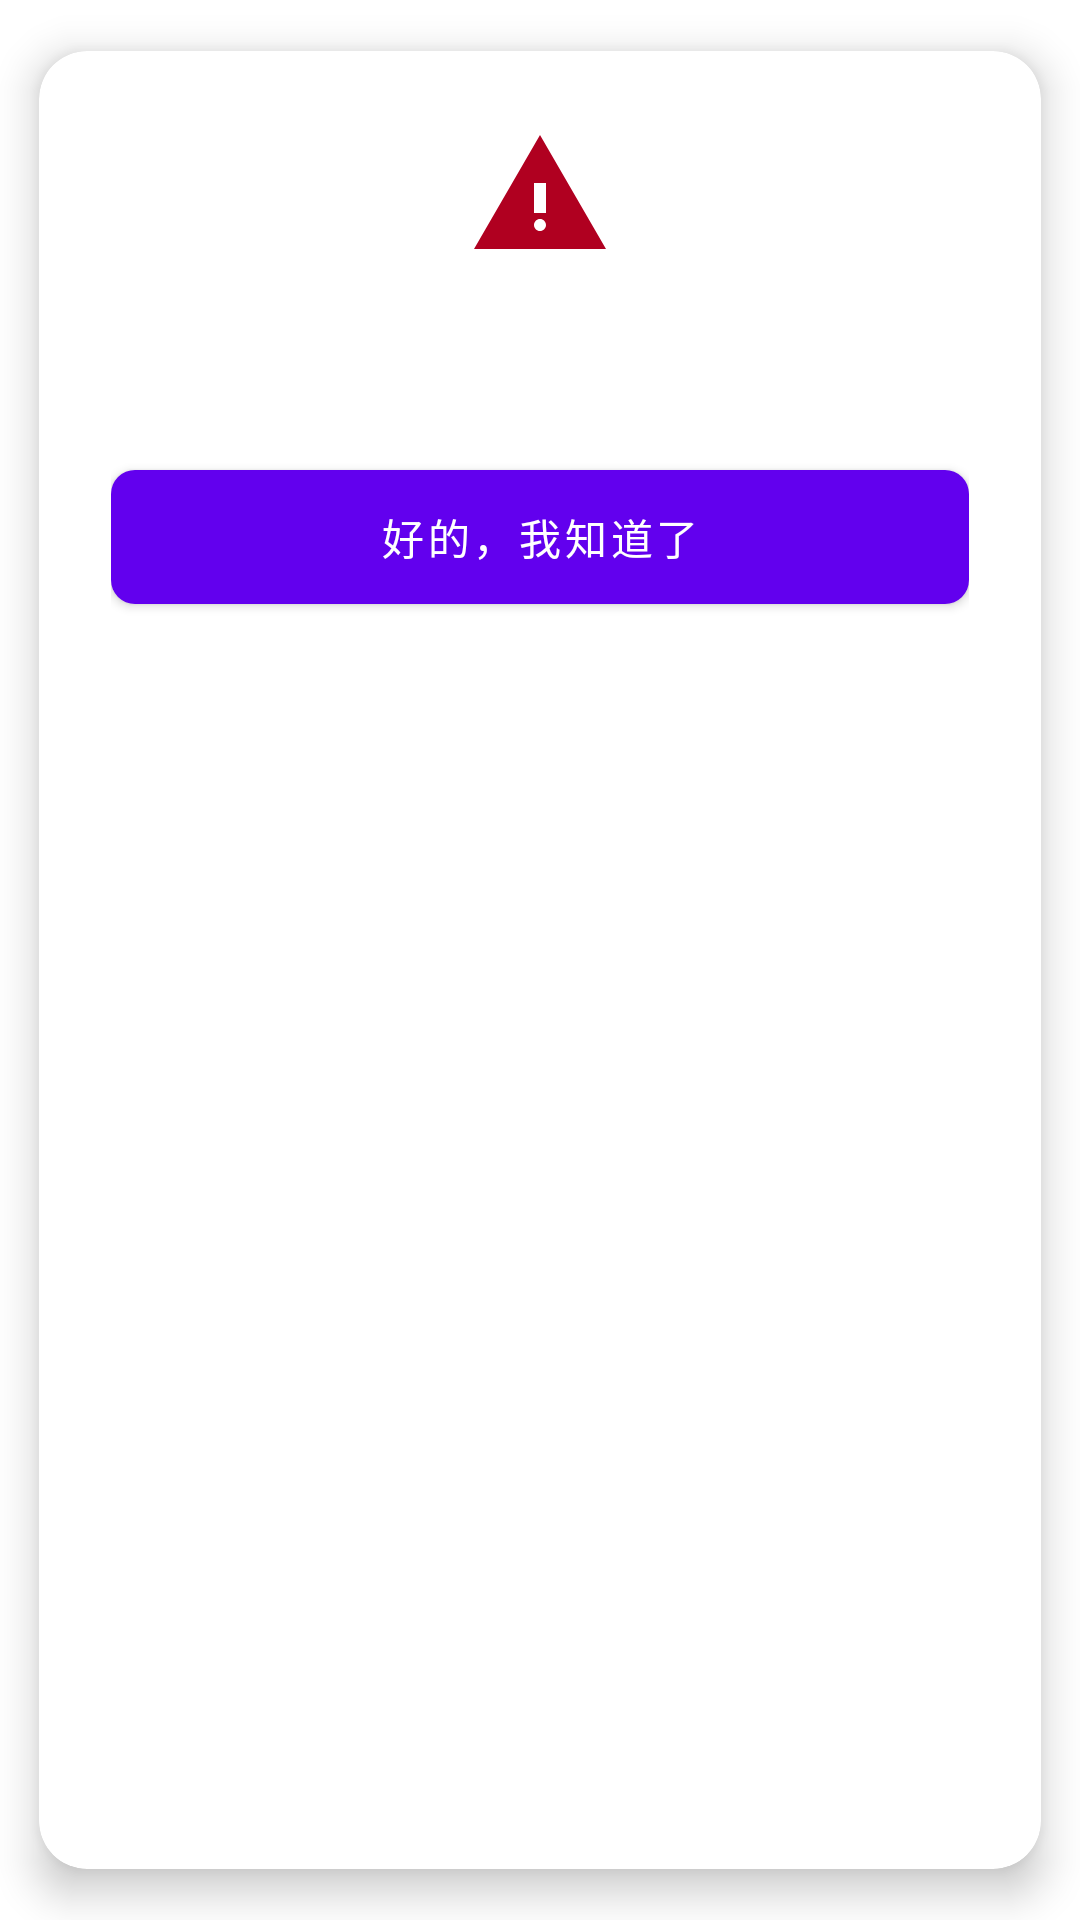

Point at icon controls on the screen. Image size 1080*1920, points as (x,y).
warning: (540,192)
